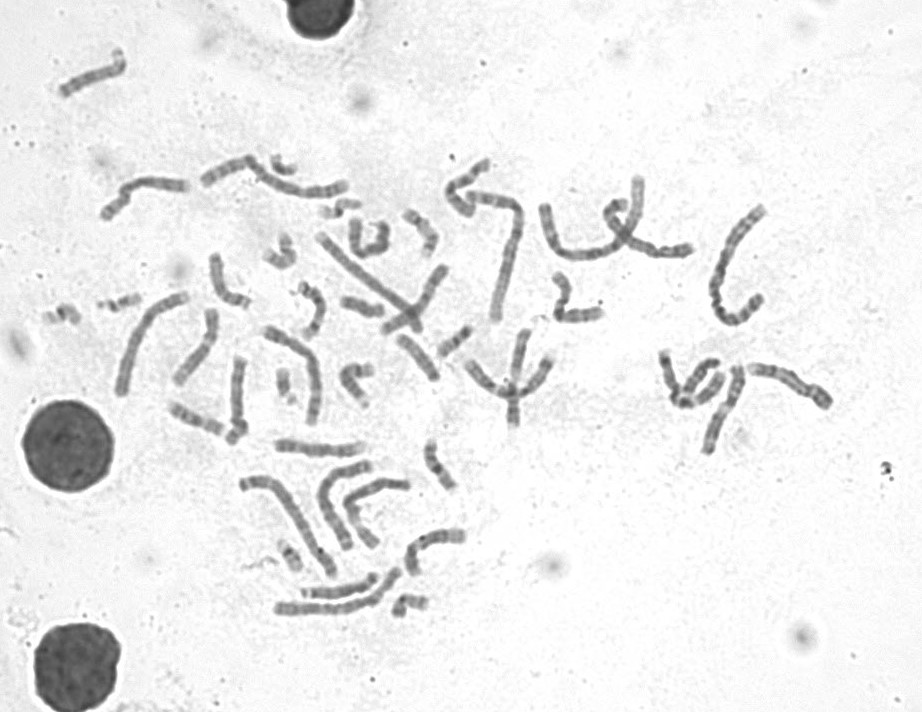chromosomes: (312, 228, 428, 340), (234, 473, 342, 580), (537, 168, 648, 265), (702, 197, 779, 331), (109, 291, 191, 404), (466, 186, 527, 326), (264, 565, 407, 623), (197, 151, 351, 202), (257, 323, 326, 428), (597, 196, 697, 266), (315, 453, 376, 554), (375, 263, 453, 337), (343, 475, 412, 553), (464, 347, 560, 403), (654, 347, 728, 417), (52, 40, 132, 104), (96, 173, 194, 225), (743, 361, 837, 415), (699, 366, 750, 460), (169, 304, 222, 391), (438, 155, 495, 224), (546, 267, 611, 327), (404, 523, 473, 579), (504, 328, 537, 435), (205, 244, 254, 316), (398, 206, 447, 268), (223, 351, 253, 448), (163, 396, 229, 439), (336, 353, 382, 413), (395, 334, 442, 390), (338, 216, 393, 262), (421, 435, 460, 498), (299, 571, 381, 600), (273, 435, 368, 460), (295, 276, 327, 345), (427, 322, 480, 361), (682, 355, 724, 397), (339, 294, 392, 327), (259, 230, 298, 273), (40, 303, 87, 336), (384, 592, 435, 621), (311, 198, 368, 223), (273, 537, 306, 578), (92, 293, 145, 318), (272, 365, 300, 412), (269, 154, 306, 180)
